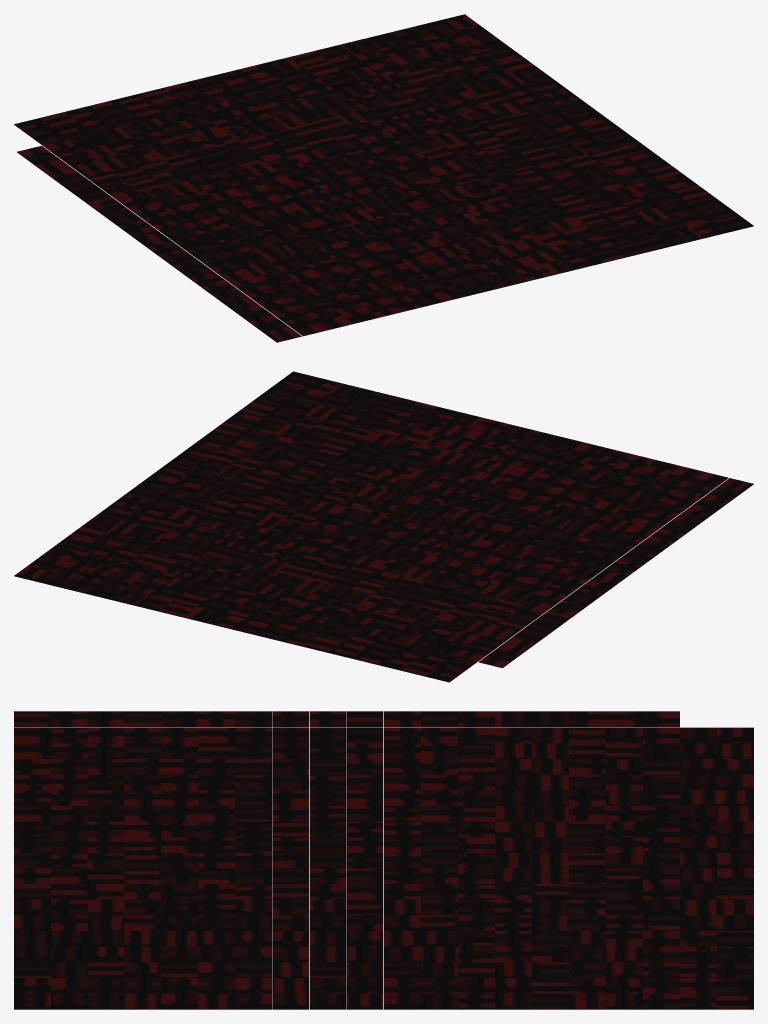
File: bar_floor10.obj
The picture shows the model from 3 angles, top to bottom: view 1: azimuth 30°, elevation 25°; view 2: azimuth 150°, elevation 25°; view 3: azimuth 270°, elevation 25°; orthographic projection. The views are drawn at different scales.
Visible parts, largest first — view 1: Box2131638163.5; view 2: Box2131638163.5; view 3: Box2131638163.5.
Boxes of the visible parts, x1,y1,x2,y2 form: Box2131638163.5: (14,14,753,342); Box2131638163.5: (14,371,753,682); Box2131638163.5: (14,711,753,1009).
Bounding box in the file's own units: 1145 × 1 × 1202.
Materials: 1 (1 with a texture image).
